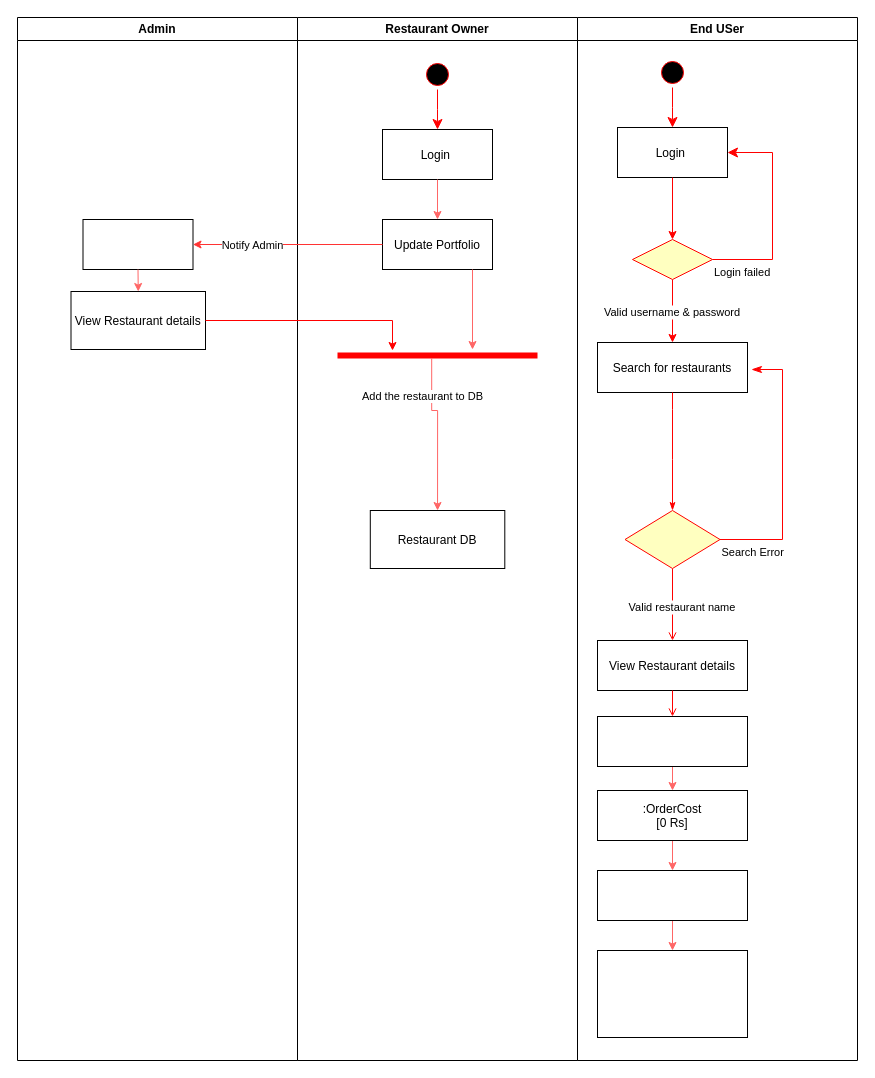
Some shapes in this 875 by 1078 pixel diagram are drawn without their labels. The shapes that lost their labels are listed below. From the top down, each one's centre as x and y in pixels, then its label:
At point 137,244: "Validate portfolio".
At point 672,259: "Login result".
At point 672,539: "Search Result".
At point 672,741: "View Menu".
At point 672,895: "Select items".
At point 672,994: ":OrderCost [updated as per selected items]".
